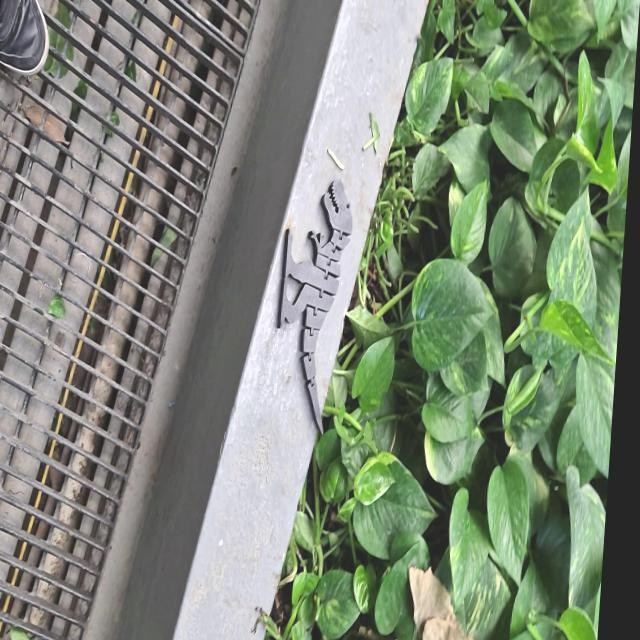dino: (268, 177, 355, 437)
